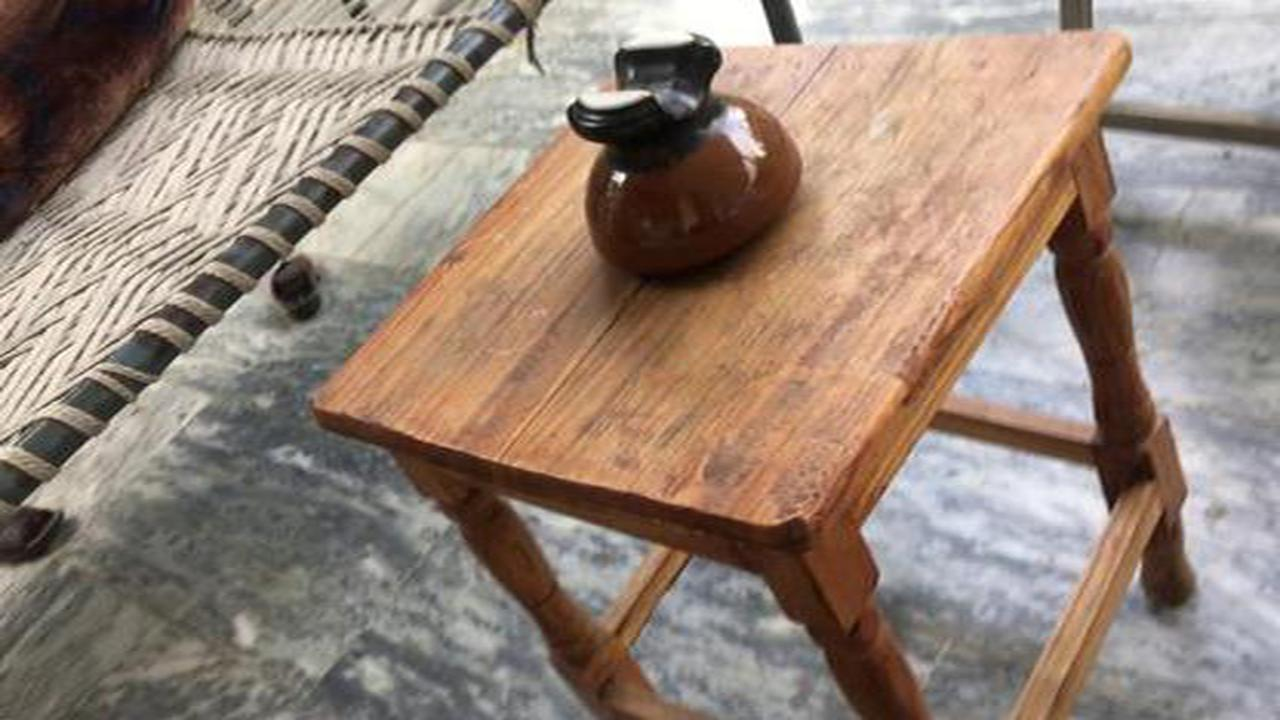insulator_pin: (557, 16, 816, 296)
